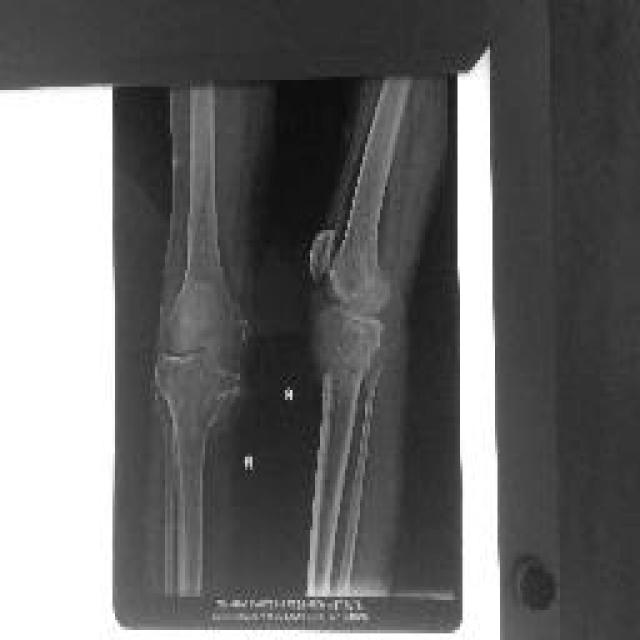bone-cancer: (168, 353, 235, 465), (311, 303, 370, 383)
